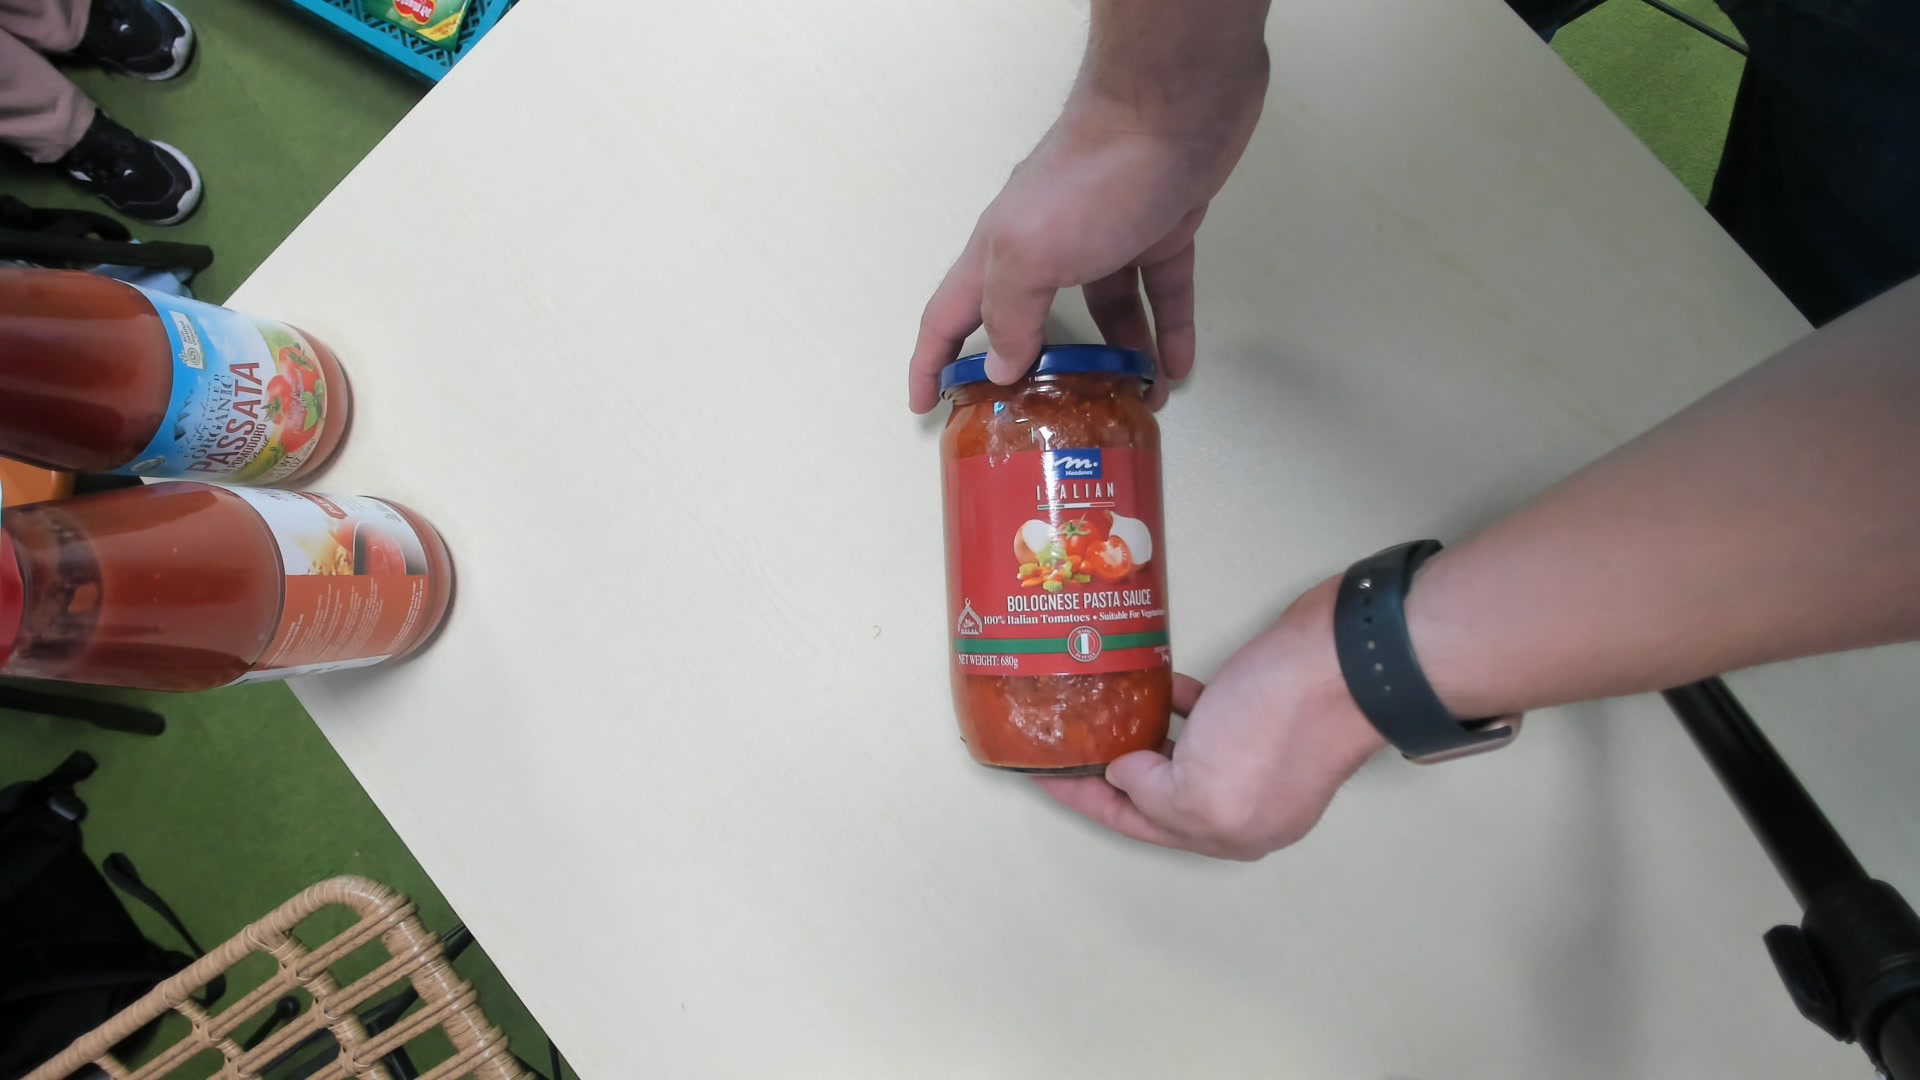PastaSauce_600-699g_Halal_NonHealthy: (943, 347, 1175, 782)
